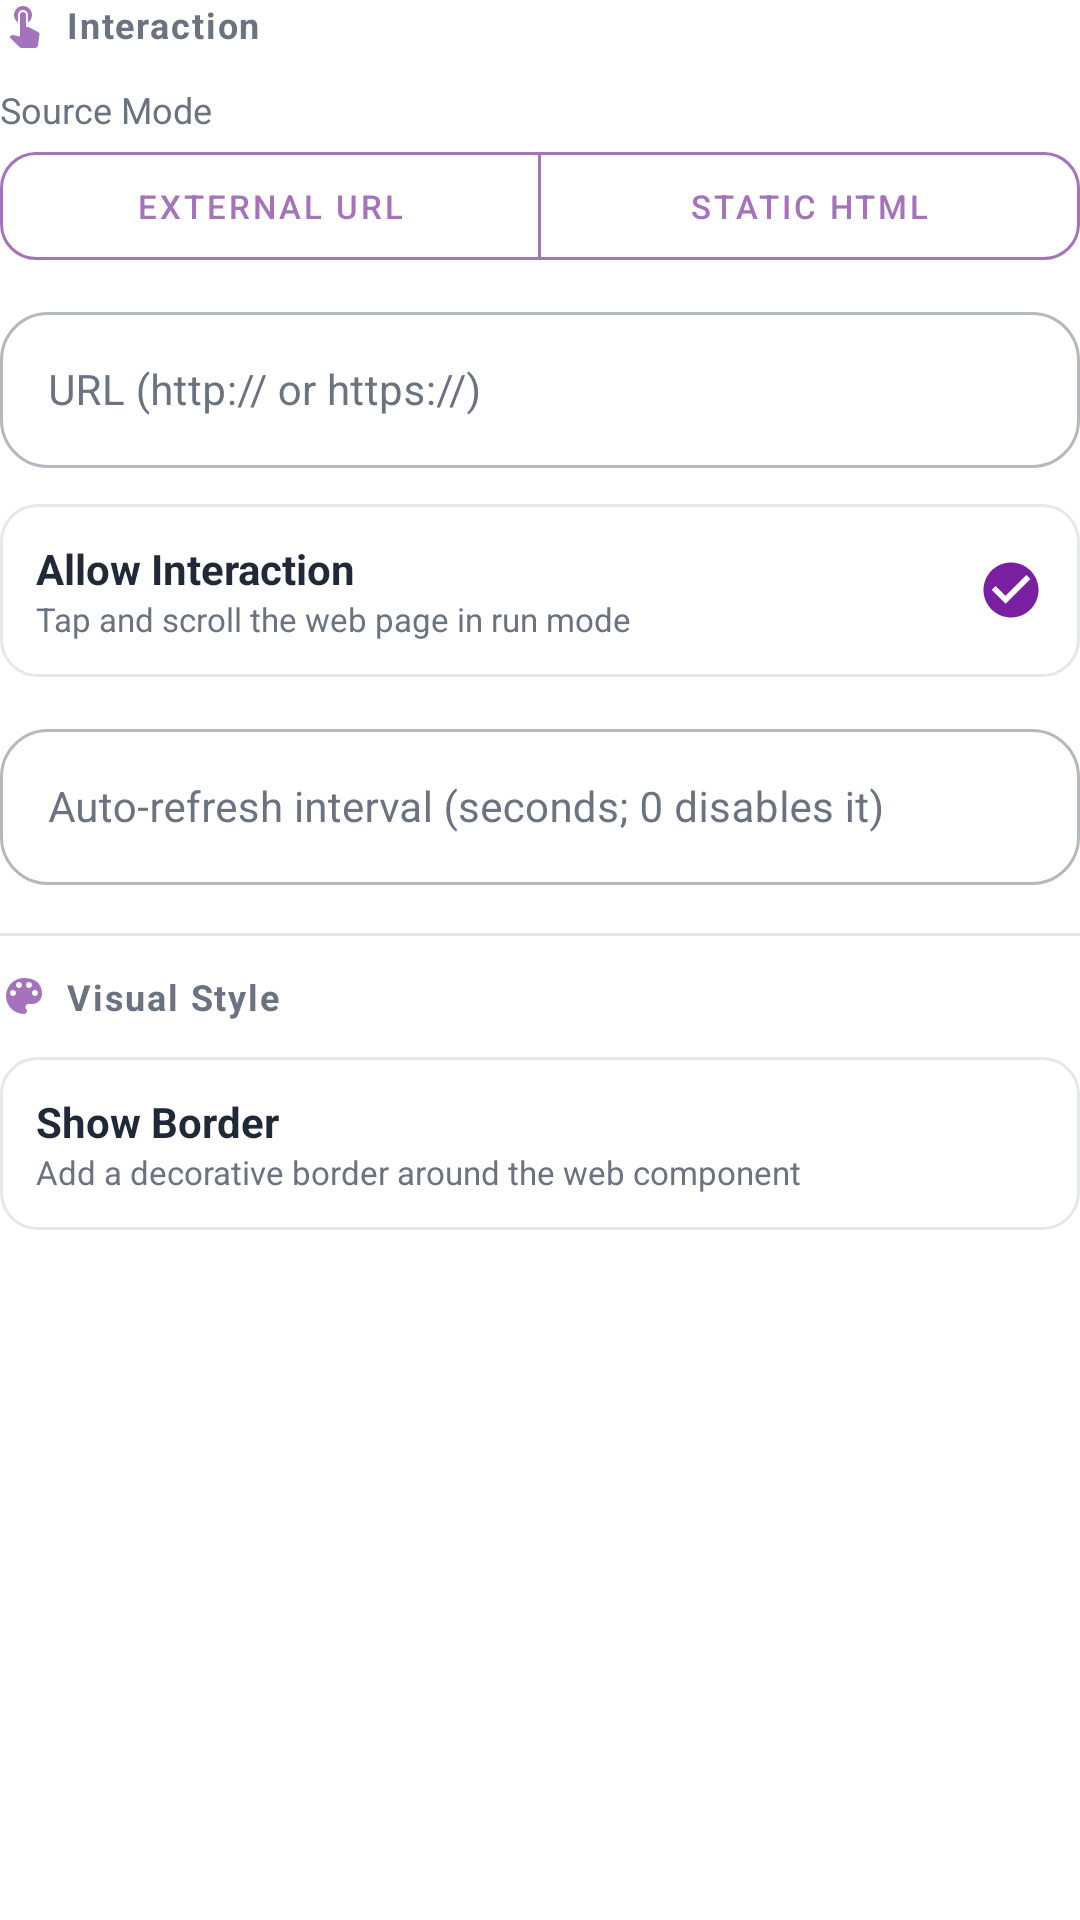

Icon bounding boxes for this 1080×1920 phone screenshot, format box=[x1, y1, x2, y2]:
check circle premium: box=[983, 562, 1039, 618]
palette: box=[6, 978, 42, 1014]
touch app: box=[9, 6, 40, 48]
